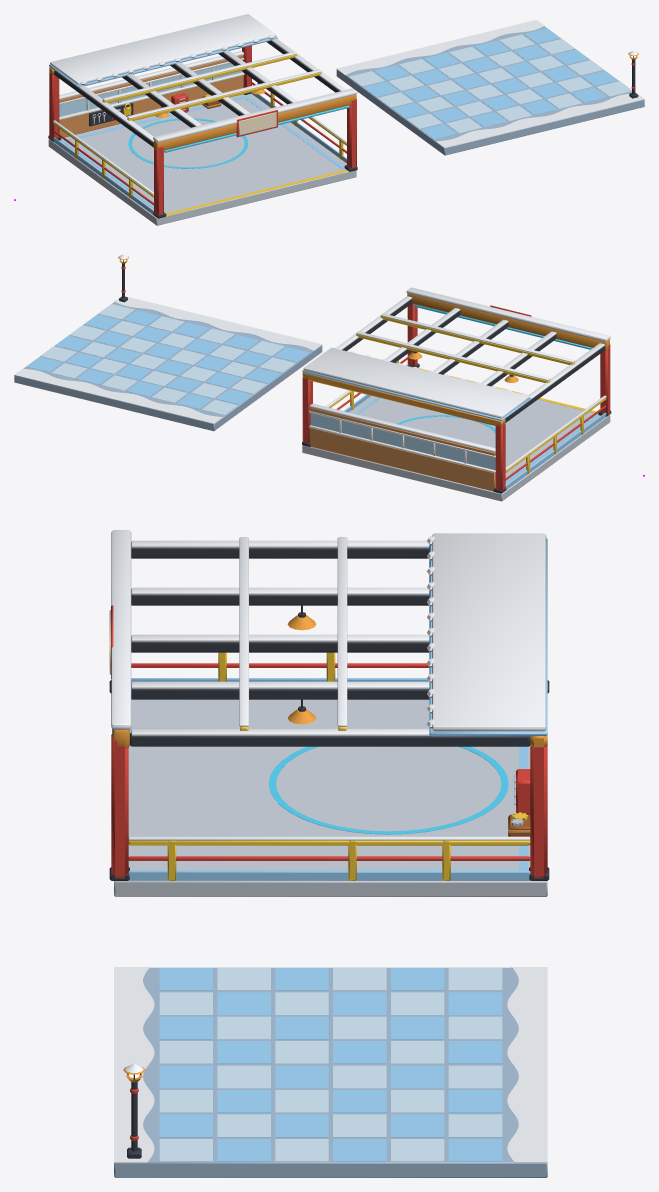
File: Pack_Bay.fbx
The picture shows the model from 3 angles, top to bottom: view 1: azimuth 30°, elevation 25°; view 2: azimuth 150°, elevation 25°; view 3: azimuth 270°, elevation 25°; orthographic projection. The views are drawn at different scales.
Parts seen in each view (by area): view 1: GarageBay__Floor__CCD5E0SP, GarageBay__Snow__F6FAFFSP, GarageStreet__PaverA__9FD8FFSP, GarageStreet__PaverB__D3ECFBSP, GarageStreet__Slab__A9C2DASP, GarageStreet__Snow__F6FAFFSP, GarageBay__Red__E2483DSP, GarageBay__Yellow__FFD23ASP, GarageBay__Ice__9FD8FFSP, GarageBay__Steel__3B3F4ASP, GarageBay__Wood__E09A5ASP, GarageBay__Orange__F2A23DSP (+4 smaller); view 2: GarageBay__Snow__F6FAFFSP, GarageBay__Floor__CCD5E0SP, GarageStreet__PaverA__9FD8FFSP, GarageStreet__PaverB__D3ECFBSP, GarageStreet__Slab__A9C2DASP, GarageBay__Wood__E09A5ASP, GarageStreet__Snow__F6FAFFSP, GarageBay__Orange__F2A23DSP, GarageBay__Red__E2483DSP, GarageBay__Glass__BFE8FFGL, GarageBay__Yellow__FFD23ASP, GarageBay__Steel__3B3F4ASP (+3 smaller); view 3: GarageBay__Floor__CCD5E0SP, GarageBay__Snow__F6FAFFSP, GarageStreet__PaverB__D3ECFBSP, GarageStreet__PaverA__9FD8FFSP, GarageStreet__Slab__A9C2DASP, GarageBay__Steel__3B3F4ASP, GarageStreet__Snow__F6FAFFSP, GarageBay__Red__E2483DSP, GarageBay__Ice__9FD8FFSP, GarageBay__Yellow__FFD23ASP, GarageBay__Ice2__57D8FFSP, GarageBay__Orange__F2A23DSP.
Part boxes in pixels (box(x1,y1,x2,y2)): GarageBay__Floor__CCD5E0SP: box(48, 93, 356, 225); GarageBay__Snow__F6FAFFSP: box(50, 14, 357, 194); GarageStreet__PaverA__9FD8FFSP: box(363, 28, 617, 139); GarageStreet__PaverB__D3ECFBSP: box(349, 34, 631, 133); GarageStreet__Slab__A9C2DASP: box(336, 26, 644, 155); GarageStreet__Snow__F6FAFFSP: box(336, 20, 644, 147); GarageBay__Red__E2483DSP: box(49, 45, 356, 216); GarageBay__Yellow__FFD23ASP: box(53, 54, 347, 215); GarageBay__Ice__9FD8FFSP: box(49, 36, 346, 214); GarageBay__Steel__3B3F4ASP: box(48, 40, 357, 218); GarageBay__Wood__E09A5ASP: box(59, 55, 243, 137); GarageBay__Orange__F2A23DSP: box(49, 67, 356, 150); GarageBay__Snow__F6FAFFSP: box(303, 287, 610, 470); GarageBay__Floor__CCD5E0SP: box(302, 368, 610, 501); GarageStreet__PaverA__9FD8FFSP: box(26, 310, 309, 408); GarageStreet__PaverB__D3ECFBSP: box(41, 304, 295, 415); GarageStreet__Slab__A9C2DASP: box(14, 302, 322, 431); GarageBay__Wood__E09A5ASP: box(310, 408, 495, 491); GarageStreet__Snow__F6FAFFSP: box(14, 254, 322, 423); GarageBay__Orange__F2A23DSP: box(302, 293, 609, 426); GarageBay__Red__E2483DSP: box(302, 304, 610, 490); GarageBay__Glass__BFE8FFGL: box(310, 413, 495, 470); GarageBay__Yellow__FFD23ASP: box(329, 316, 606, 474); GarageBay__Steel__3B3F4ASP: box(302, 299, 611, 493); GarageBay__Floor__CCD5E0SP: box(114, 699, 547, 896); GarageBay__Snow__F6FAFFSP: box(111, 530, 546, 840); GarageStreet__PaverB__D3ECFBSP: box(159, 968, 502, 1161); GarageStreet__PaverA__9FD8FFSP: box(159, 968, 502, 1161); GarageStreet__Slab__A9C2DASP: box(114, 967, 547, 1177); GarageBay__Steel__3B3F4ASP: box(109, 547, 549, 880); GarageStreet__Snow__F6FAFFSP: box(114, 967, 547, 1162); GarageBay__Red__E2483DSP: box(111, 605, 547, 878); GarageBay__Ice__9FD8FFSP: box(128, 538, 547, 880); GarageBay__Yellow__FFD23ASP: box(128, 652, 530, 880); GarageBay__Ice2__57D8FFSP: box(112, 729, 508, 834); GarageBay__Orange__F2A23DSP: box(112, 615, 547, 748).
Bounding box in the file's own units: 92.1 × 13.35 × 30.4.
